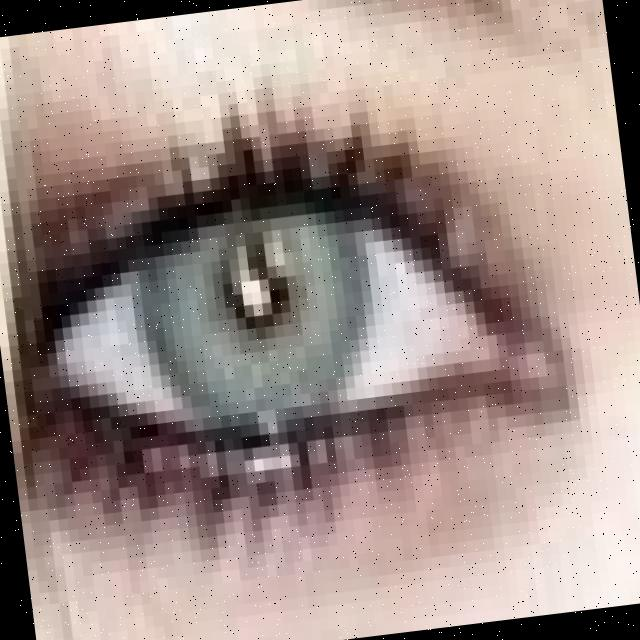Normal: (1, 96, 547, 530)
